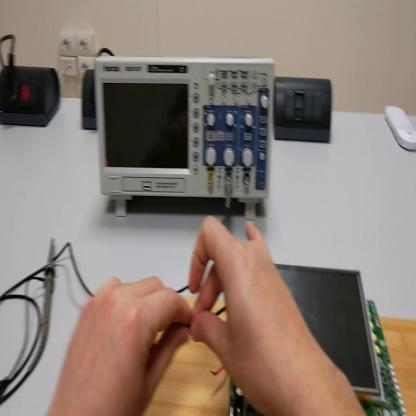hand: (189, 217, 324, 414), (47, 274, 192, 416)
low voltage board: (191, 264, 411, 416)
oscilloscope: (97, 58, 275, 220)
oscilloscope probe tip: (42, 239, 57, 333)
socket: (1, 65, 62, 129), (82, 69, 98, 130)
working area: (142, 298, 415, 414)
